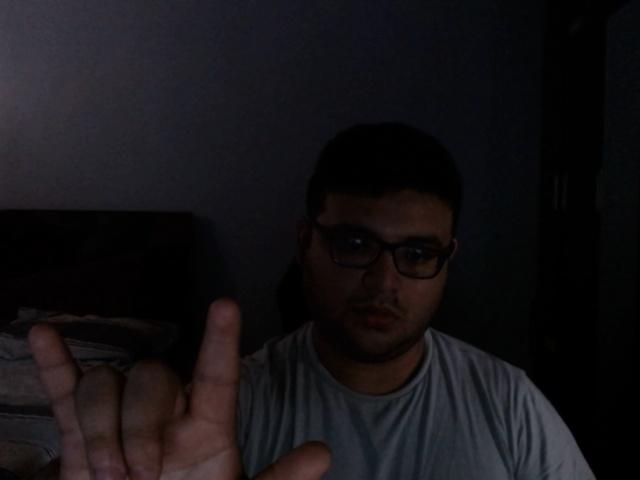I love you: (22, 294, 338, 480)
